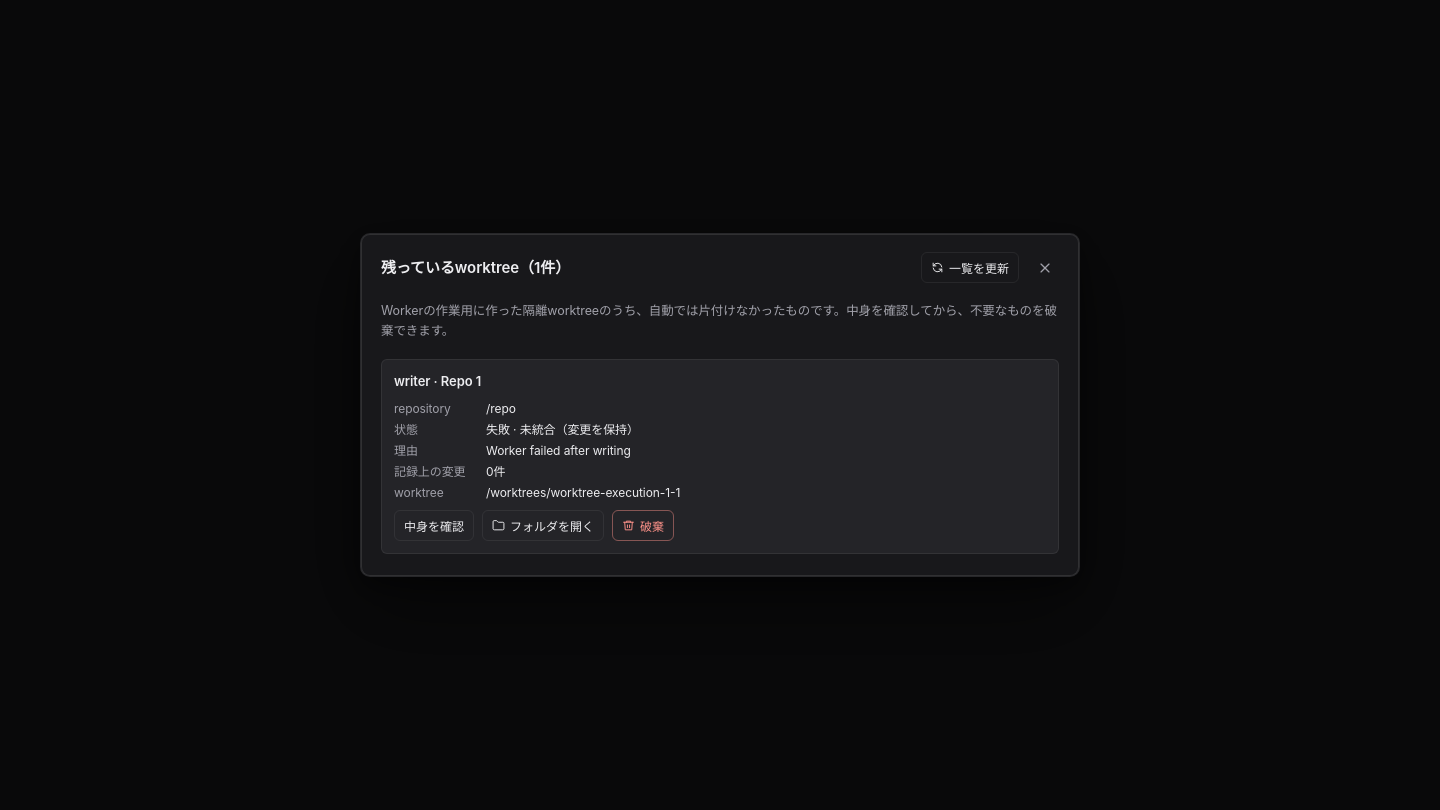
Test: retained worktree pagination (#966) › does not replace the next Task with an old successful discard response
This screenshot has width=1440, height=810.
Click the button "破棄" at (643, 525), box [612,510,674,541]
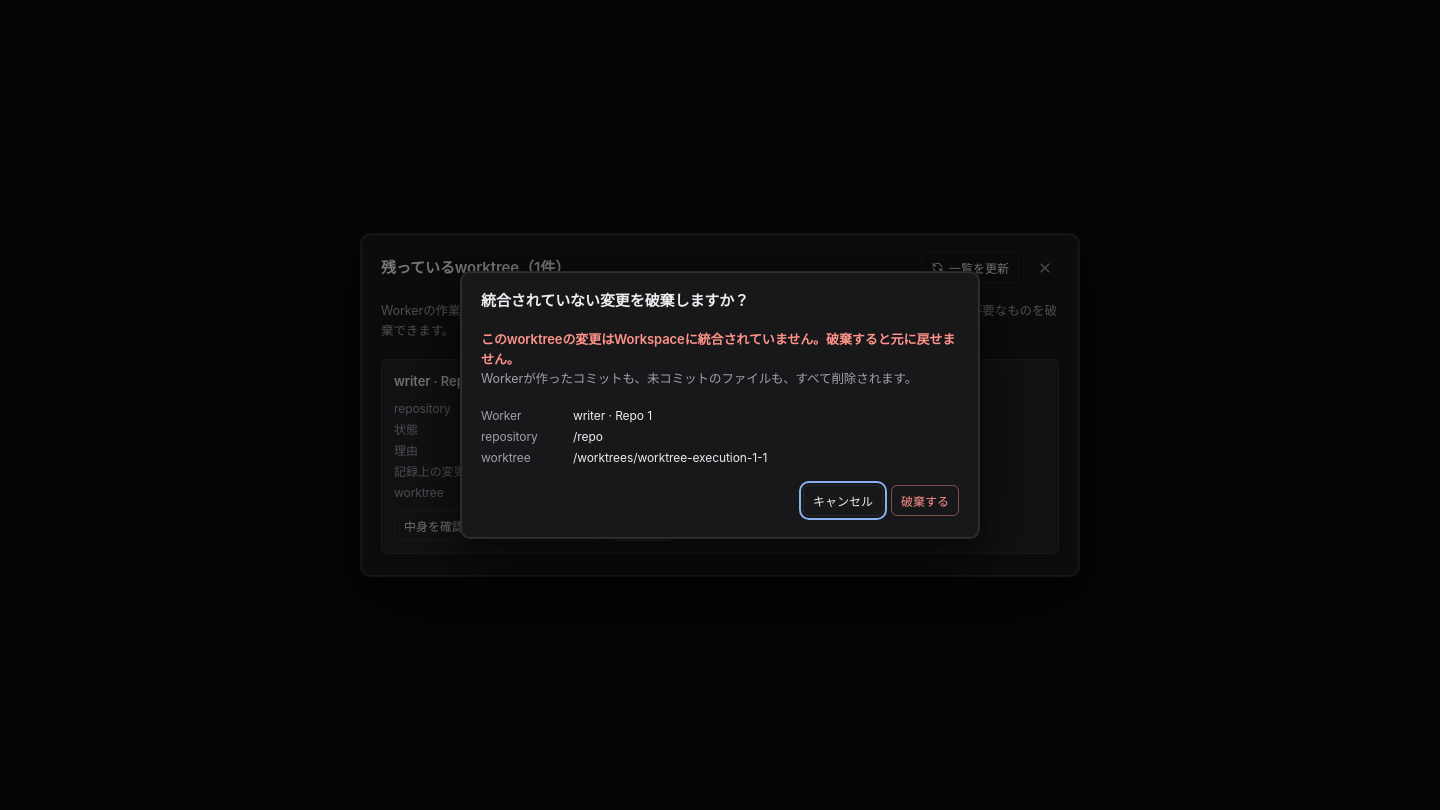
Click the button with test id "team-retained-confirm-discard" at (925, 501), box [891,485,959,516]
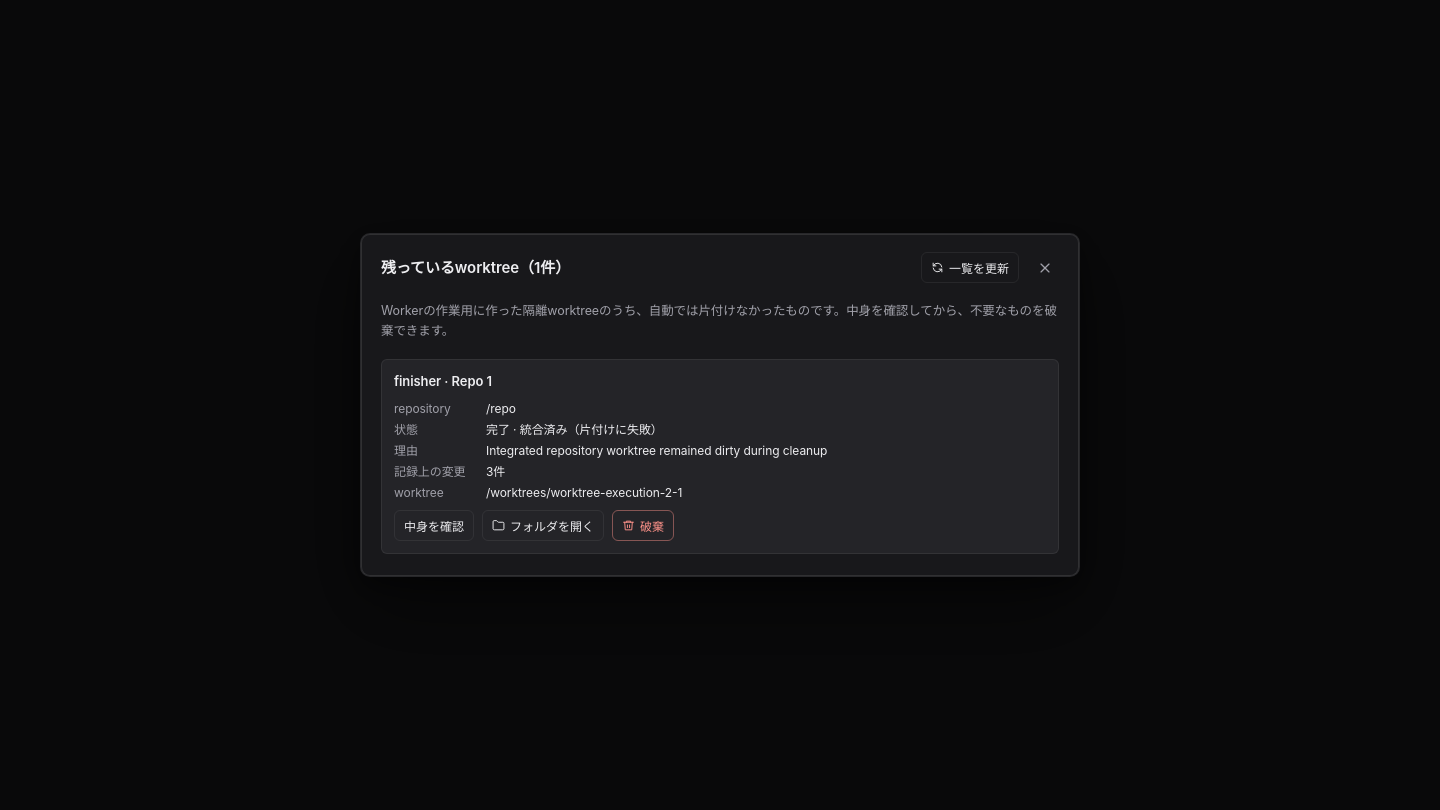
Result: the text "finisher" is shown at [394,373,492,389]
Result: the dialog with test id "team-retained-confirm" is gone
